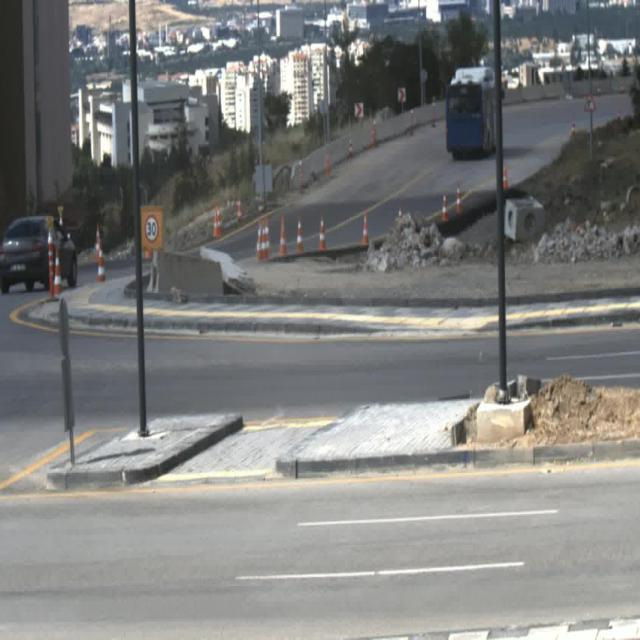Bus: (444, 70, 495, 164)
Car: (1, 209, 75, 293)
